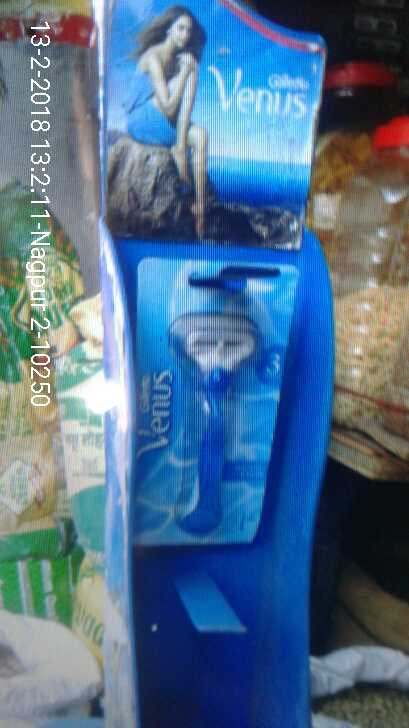venus: (135, 255, 289, 556)
